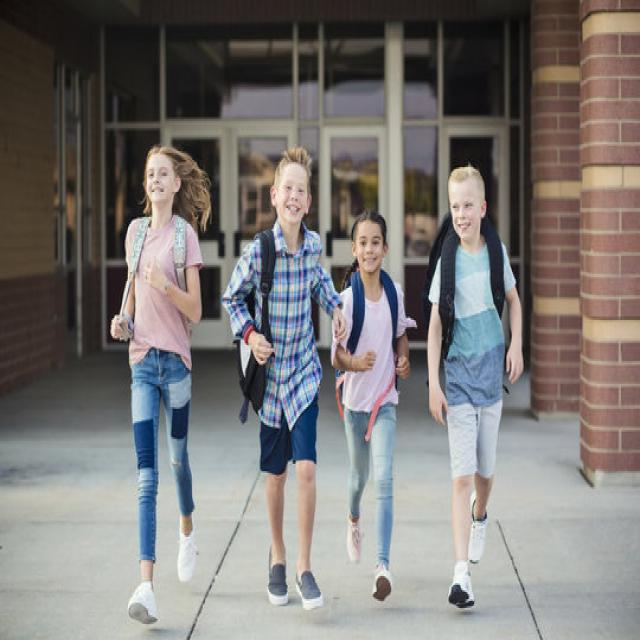Person: (222, 142, 348, 610), (110, 147, 212, 624), (426, 168, 525, 608), (331, 208, 409, 602)
